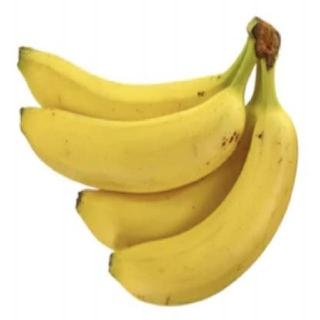banana: (107, 105, 299, 307), (74, 100, 274, 260), (17, 86, 249, 196), (15, 42, 228, 138)
